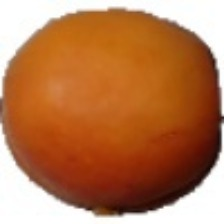apricot: (5, 27, 185, 224)
